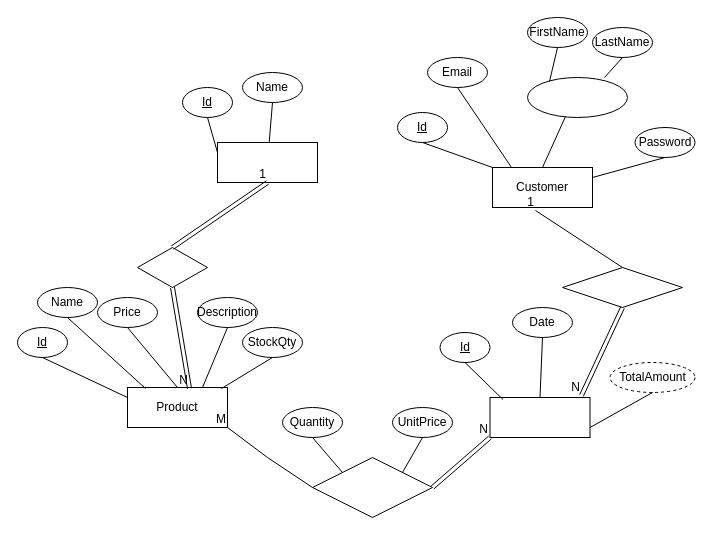
This 713x535 diagram has some shape labels left out. The centre of each missing label's shape, as x and y in pixels:
"Category" belongs at point (267, 162).
"Contains" belongs at point (372, 487).
"FullName" belongs at point (577, 97).
"Has" belongs at point (172, 267).
"Make" belongs at point (622, 287).
"Order" belongs at point (539, 417).
